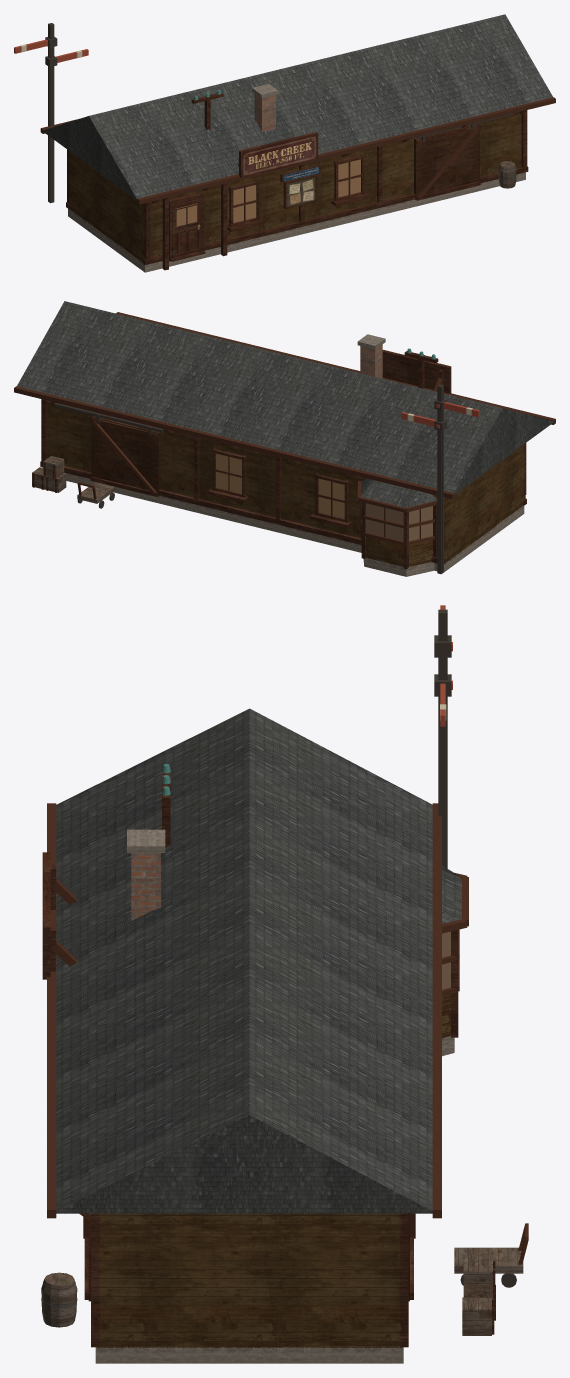
File: black_creek_depot.glb
3 renders of one model, top to bottom at view 1: azimuth 30°, elevation 25°; view 2: azimuth 150°, elevation 25°; view 3: azimuth 270°, elevation 25°, orthographic. The views are drawn at different scales.
Parts seen in each view (by area): view 1: Split slate, Photographic pine | grade and eave AO, Depot oxide red, Rubble foundation, Depot cylinder glass, Print_depot, Signal iron, Chimney brick, Print_depot_notices, Oak staves, Signal red enamel, Depot painted leaf; view 2: Split slate, Photographic pine | grade and eave AO, Depot oxide red, Rubble foundation, Signal iron, Depot cylinder glass, Operator bay glazing, Photographic pine, Chimney brick, Signal red enamel; view 3: Split slate, Photographic pine | grade and eave AO, Depot oxide red, Rubble foundation, Photographic pine, Signal iron, Chimney brick, Oak staves.
Boxes of the visible parts, x1,y1,x2,y2 form: Split slate: [43, 14, 552, 199]; Photographic pine | grade and eave AO: [68, 112, 521, 262]; Depot oxide red: [40, 92, 555, 270]; Rubble foundation: [68, 84, 525, 272]; Depot cylinder glass: [176, 159, 360, 226]; Print_depot: [243, 135, 316, 176]; Signal iron: [45, 23, 514, 203]; Chimney brick: [254, 93, 275, 131]; Print_depot_notices: [287, 177, 315, 206]; Oak staves: [498, 161, 516, 188]; Signal red enamel: [14, 39, 88, 62]; Depot painted leaf: [173, 198, 199, 256]; Split slate: [17, 301, 553, 507]; Photographic pine | grade and eave AO: [47, 401, 523, 566]; Depot oxide red: [14, 312, 555, 568]; Rubble foundation: [42, 334, 524, 576]; Signal iron: [54, 384, 446, 574]; Depot cylinder glass: [216, 453, 344, 518]; Operator bay glazing: [366, 503, 432, 541]; Photographic pine: [32, 456, 115, 503]; Chimney brick: [360, 344, 382, 378]; Signal red enamel: [401, 402, 479, 428]; Split slate: [56, 708, 461, 1213]; Photographic pine | grade and eave AO: [88, 994, 450, 1347]; Depot oxide red: [42, 772, 528, 1347]; Rubble foundation: [95, 829, 454, 1363]; Photographic pine: [454, 1247, 523, 1335]; Signal iron: [434, 609, 516, 1287]; Chimney brick: [131, 853, 160, 920]; Oak staves: [41, 1272, 77, 1327].
Bounding box in the file's own units: 17.65 × 7.12 × 8.42.
Materials: 19 (10 with a texture image).
